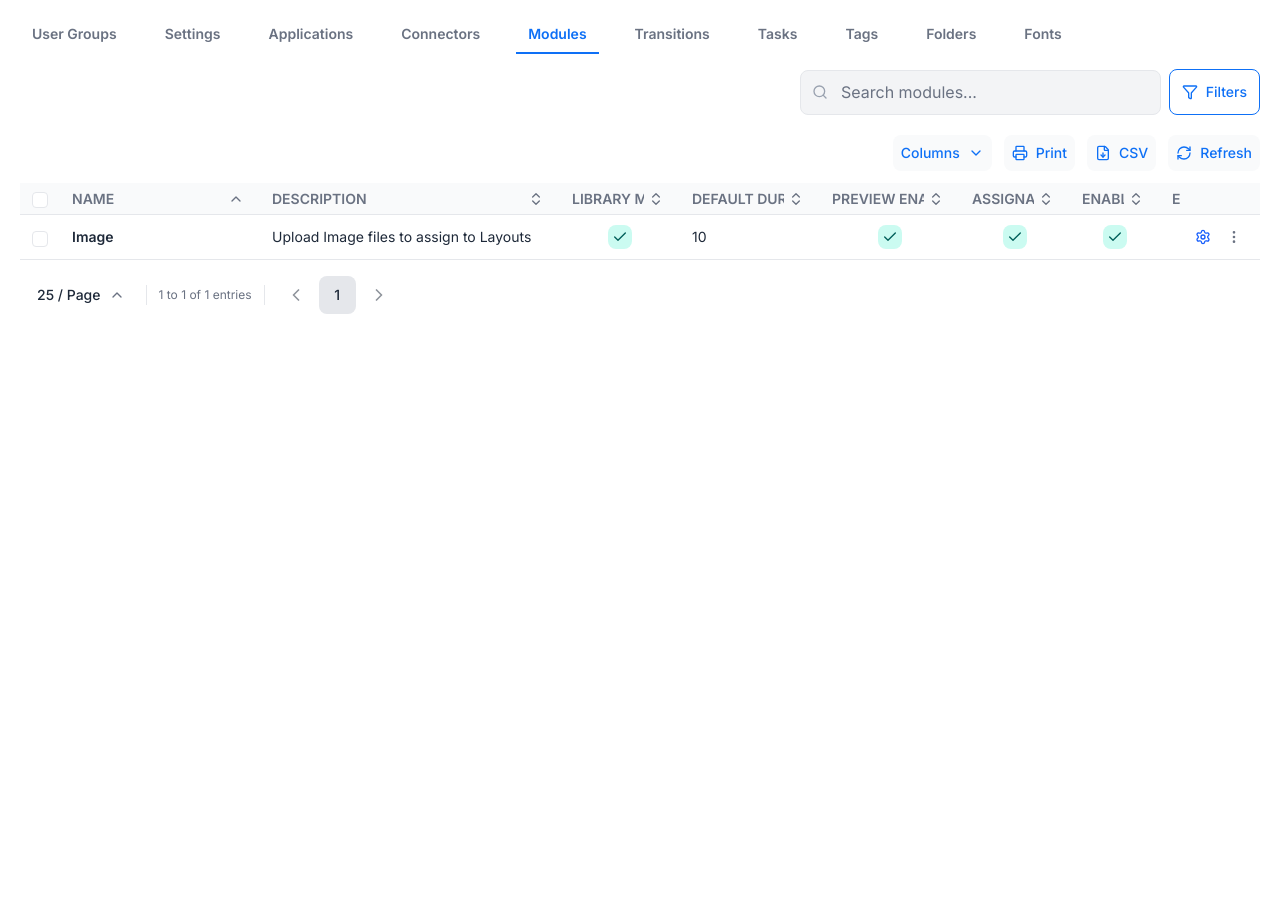
Test case: Modules page - configure wiring › clicking Configure opens the "Edit Module" modal
Check: the text "Image" is shown, box [72,227,114,247]
Click the button named "configure": (1203, 237) [1190,224,1216,250]
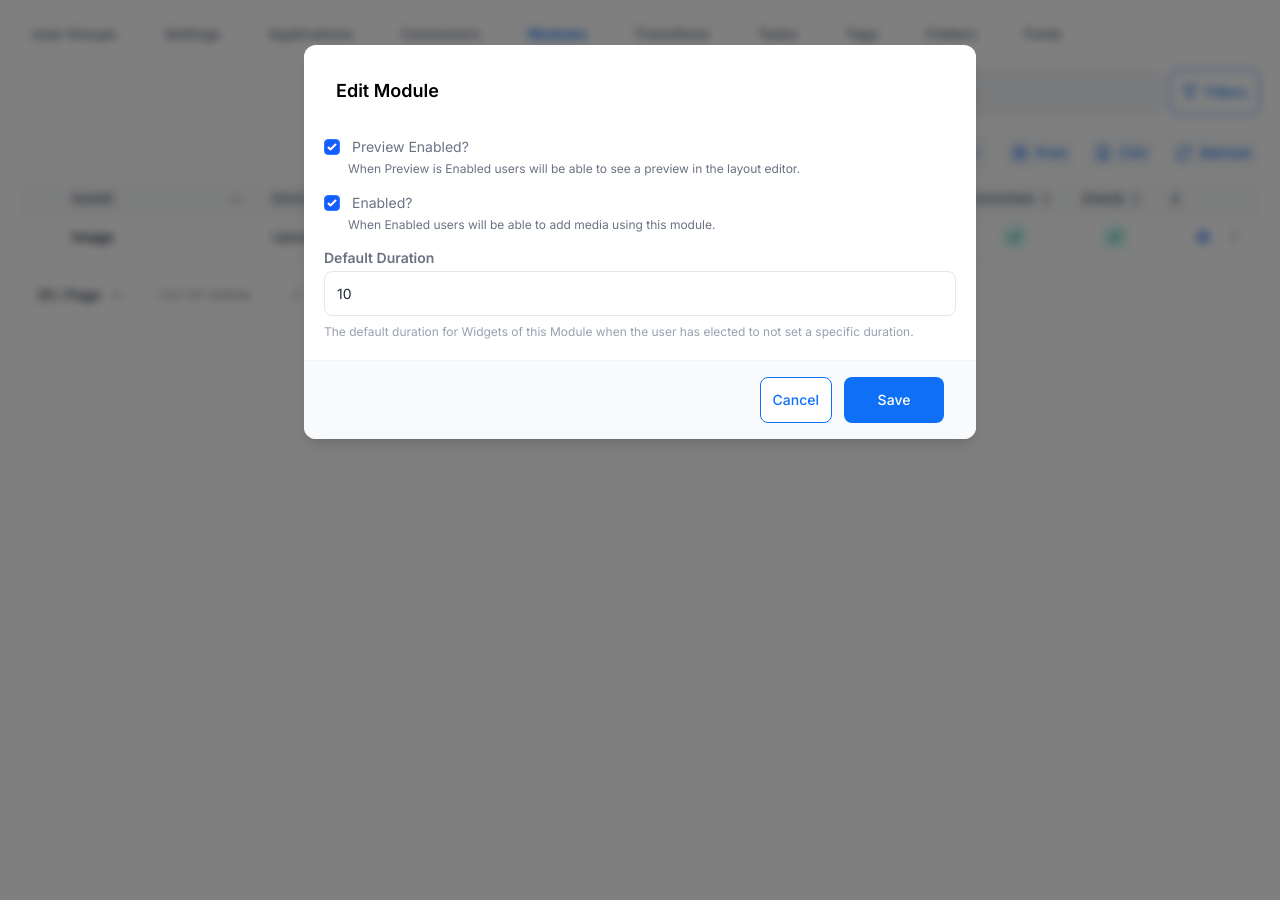
Check: the number of dialogs is 1, box [304,45,976,439]
